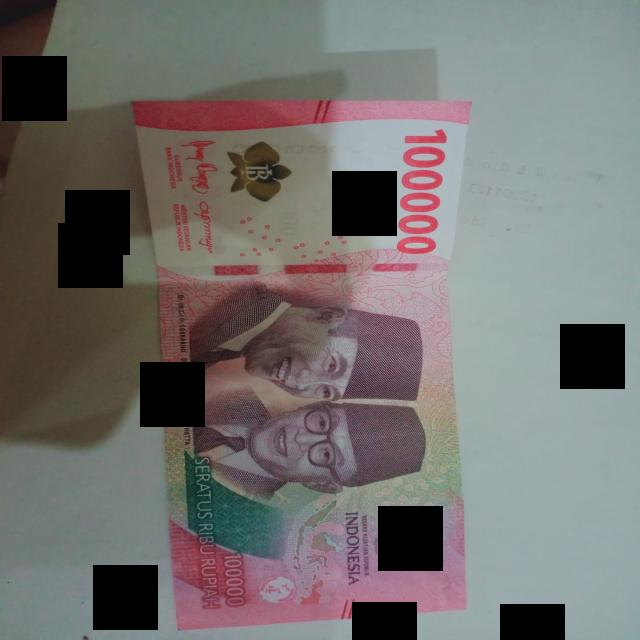seratusribu rupiah: (133, 101, 470, 630)
